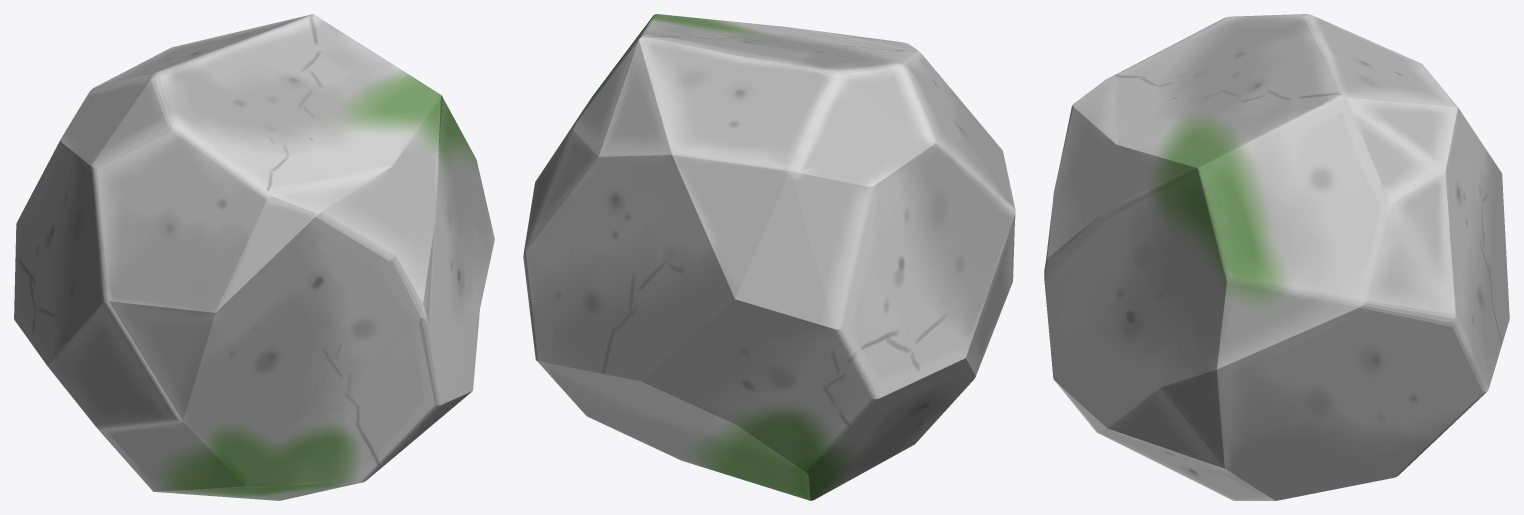
Rendered from PIerre boss 1.fbx.
3 views of the same model, side by side, from view 1: azimuth 30°, elevation 25°; view 2: azimuth 150°, elevation 25°; view 3: azimuth 270°, elevation 25° (orthographic). The views are drawn at different scales.
Parts seen in each view (by area): view 1: Cube; view 2: Cube; view 3: Cube.
Boxes of the visible parts, left/top/right/bottom form: Cube: left=14, top=14, right=494, bottom=500; Cube: left=523, top=14, right=1015, bottom=500; Cube: left=1044, top=14, right=1509, bottom=500.
Bounding box in the file's own units: 173 × 168 × 165.
